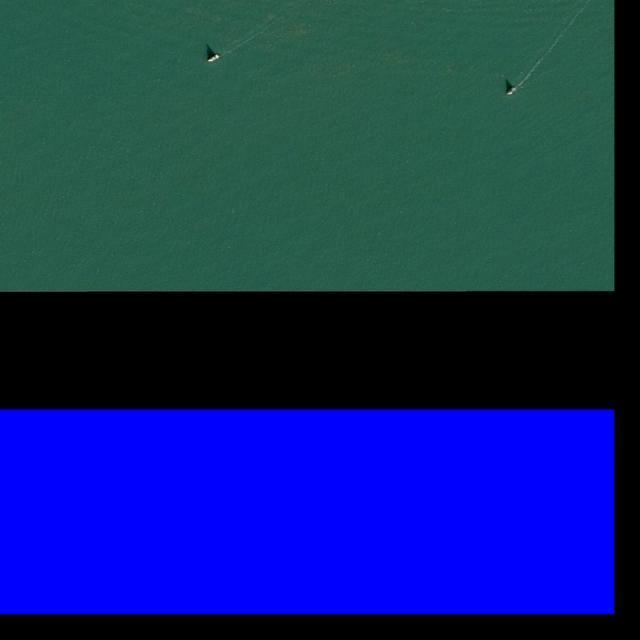ship: (206, 53, 222, 65), (506, 86, 518, 97)
